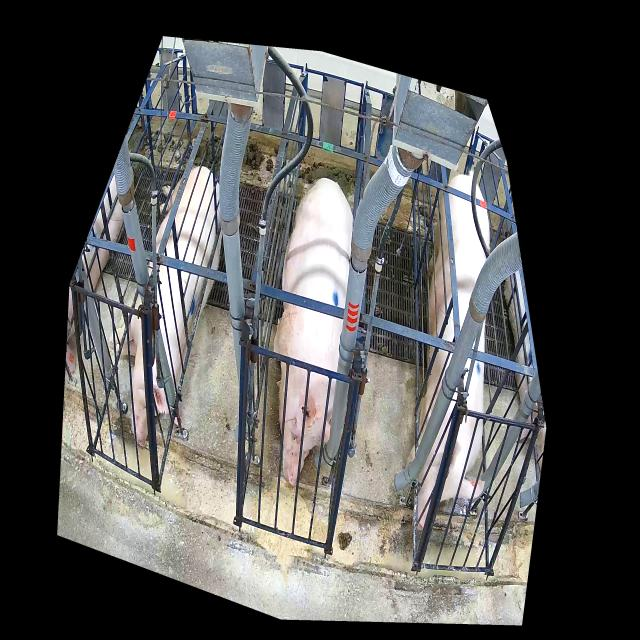pig: (108, 165, 222, 447), (405, 171, 490, 530), (273, 178, 353, 486)
